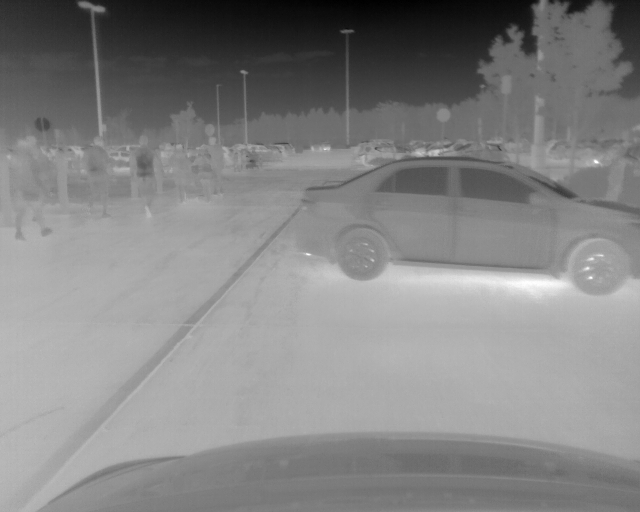car: (303, 156, 639, 298), (439, 138, 504, 157), (365, 145, 412, 160), (310, 143, 329, 150)
people: (8, 137, 54, 243), (83, 137, 116, 221), (130, 136, 159, 217), (607, 143, 640, 210), (194, 149, 217, 203), (169, 148, 192, 202), (207, 137, 226, 197), (234, 144, 245, 172), (251, 147, 263, 169)
